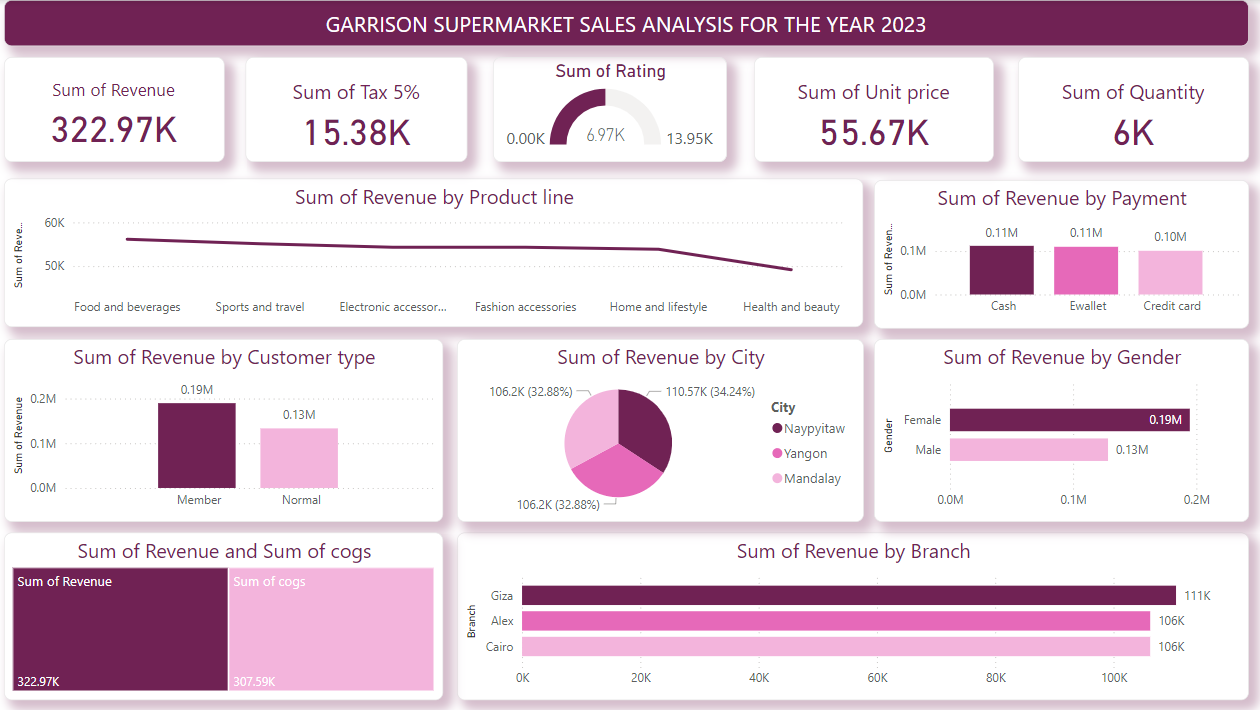

What the dashboard file says about the page in this screenshot:
{"tool":"powerbi","page":{"name":"Page 1","canvas":[1280,720],"ordinal":0},"visuals":[{"type":"textbox","box":[9.1,0,1256.8,46.9],"z":0},{"type":"lineChart","fields":{"Y":["Sum(SuperMarket Analysis(1).Revenue)"],"Category":["SuperMarket Analysis(1).Product line"]},"box":[9.1,180.2,867.6,149.9],"z":1},{"type":"clusteredColumnChart","fields":{"Y":["Sum(SuperMarket Analysis(1).Revenue)"],"Category":["SuperMarket Analysis(1).Customer type"]},"box":[9.1,342.2,443.7,184.7],"z":2},{"type":"clusteredColumnChart","fields":{"Y":["Sum(SuperMarket Analysis(1).Revenue)"],"Category":["SuperMarket Analysis(1).Payment"]},"box":[887.3,181.7,378.6,149.9],"z":3},{"type":"barChart","fields":{"Y":["Sum(SuperMarket Analysis(1).Revenue)"],"Category":["SuperMarket Analysis(1).Branch"]},"box":[466.4,537.5,799.5,169.6],"z":4},{"type":"pieChart","fields":{"Y":["Sum(SuperMarket Analysis(1).Revenue)"],"Category":["SuperMarket Analysis(1).City"]},"box":[466.4,342.2,410.3,184.7],"z":5},{"type":"treemap","fields":{"Values":["Sum(SuperMarket Analysis(1).Revenue)","Sum(SuperMarket Analysis(1).cogs)"]},"box":[9.1,537.5,443.7,169.6],"z":6},{"type":"clusteredBarChart","fields":{"Category":["SuperMarket Analysis(1).Gender"],"Y":["Sum(SuperMarket Analysis(1).Revenue)"]},"box":[887.3,342.2,378.6,184.7],"z":7},{"type":"cardVisual","fields":{"Data":["Sum(SuperMarket Analysis(1).Revenue)"]},"box":[9.1,57.5,222.6,106],"z":8},{"type":"cardVisual","fields":{"Data":["Sum(SuperMarket Analysis(1).Tax 5%)"]},"box":[252.9,57.5,224.1,106],"z":9},{"type":"gauge","fields":{"Y":["Sum(SuperMarket Analysis(1).Rating)"]},"box":[502.7,57.5,236.2,106],"z":10},{"type":"cardVisual","fields":{"Data":["Sum(SuperMarket Analysis(1).Unit price)"]},"box":[766.2,57.5,242.3,106],"z":11},{"type":"cardVisual","fields":{"Data":["Sum(SuperMarket Analysis(1).Quantity)"]},"box":[1032.7,57.5,233.2,106],"z":12}]}

Visuals, with their boxes in screenshot pixels (x1, y1, x2, y2), scaled from the page's 1280x720 canvas onto the 1260x710 screenshot:
textbox: 9:0:1246:46
lineChart - Sum(SuperMarket Analysis(1).Revenue) x SuperMarket Analysis(1).Product line: 9:178:863:326
clusteredColumnChart - Sum(SuperMarket Analysis(1).Revenue) x SuperMarket Analysis(1).Customer type: 9:337:446:520
clusteredColumnChart - Sum(SuperMarket Analysis(1).Revenue) x SuperMarket Analysis(1).Payment: 873:179:1246:327
barChart - Sum(SuperMarket Analysis(1).Revenue) x SuperMarket Analysis(1).Branch: 459:530:1246:697
pieChart - Sum(SuperMarket Analysis(1).Revenue) x SuperMarket Analysis(1).City: 459:337:863:520
treemap - Sum(SuperMarket Analysis(1).Revenue) x Sum(SuperMarket Analysis(1).cogs): 9:530:446:697
clusteredBarChart - SuperMarket Analysis(1).Gender x Sum(SuperMarket Analysis(1).Revenue): 873:337:1246:520
cardVisual - Sum(SuperMarket Analysis(1).Revenue): 9:57:228:161
cardVisual - Sum(SuperMarket Analysis(1).Tax 5%): 249:57:470:161
gauge - Sum(SuperMarket Analysis(1).Rating): 495:57:727:161
cardVisual - Sum(SuperMarket Analysis(1).Unit price): 754:57:993:161
cardVisual - Sum(SuperMarket Analysis(1).Quantity): 1017:57:1246:161
